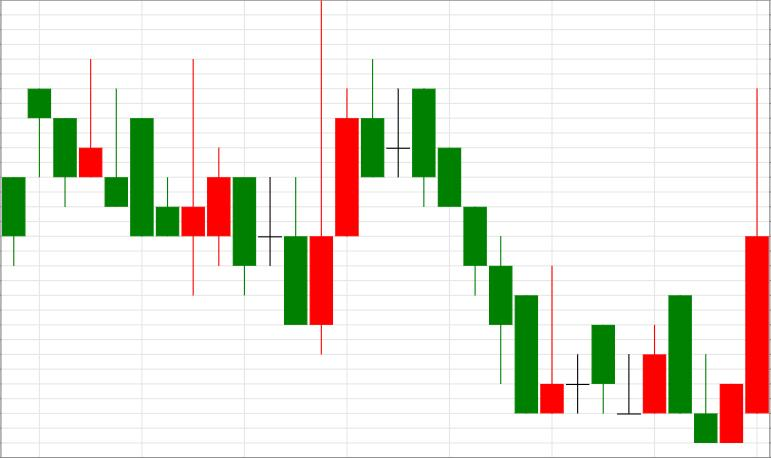inverse_hammer_rise: (387, 89, 564, 413)
